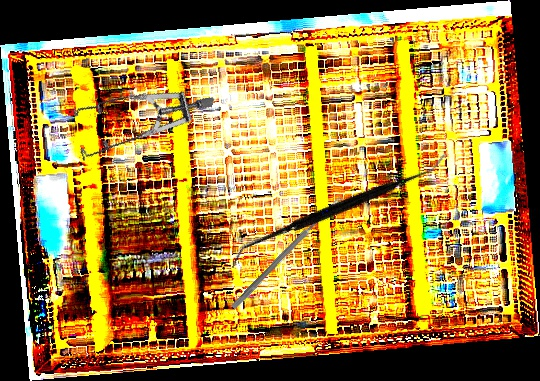Spatula Surgical: (228, 87, 450, 334)
Speculum: (57, 53, 216, 197)
Surgical Spoon: (230, 194, 344, 311)
